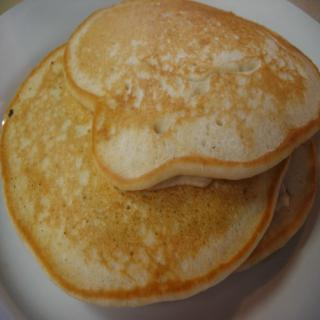Pancake: (0, 43, 318, 307), (63, 0, 320, 190)
